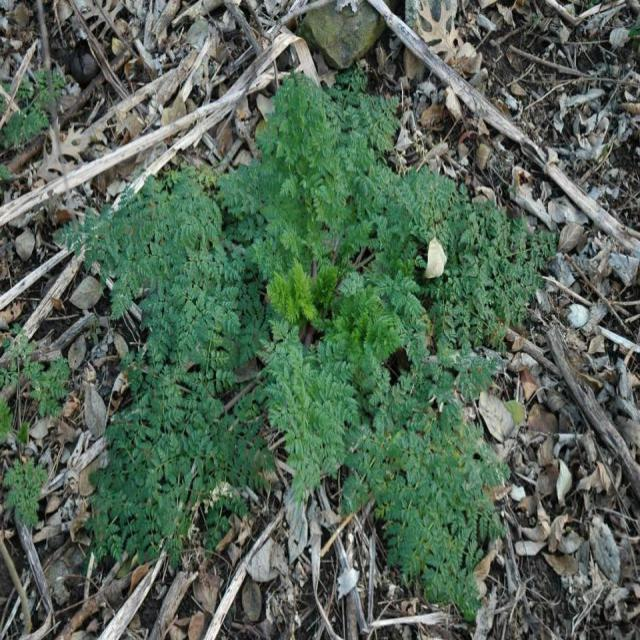Poisonous-Hemlock: (128, 205, 470, 474), (259, 113, 390, 208)
